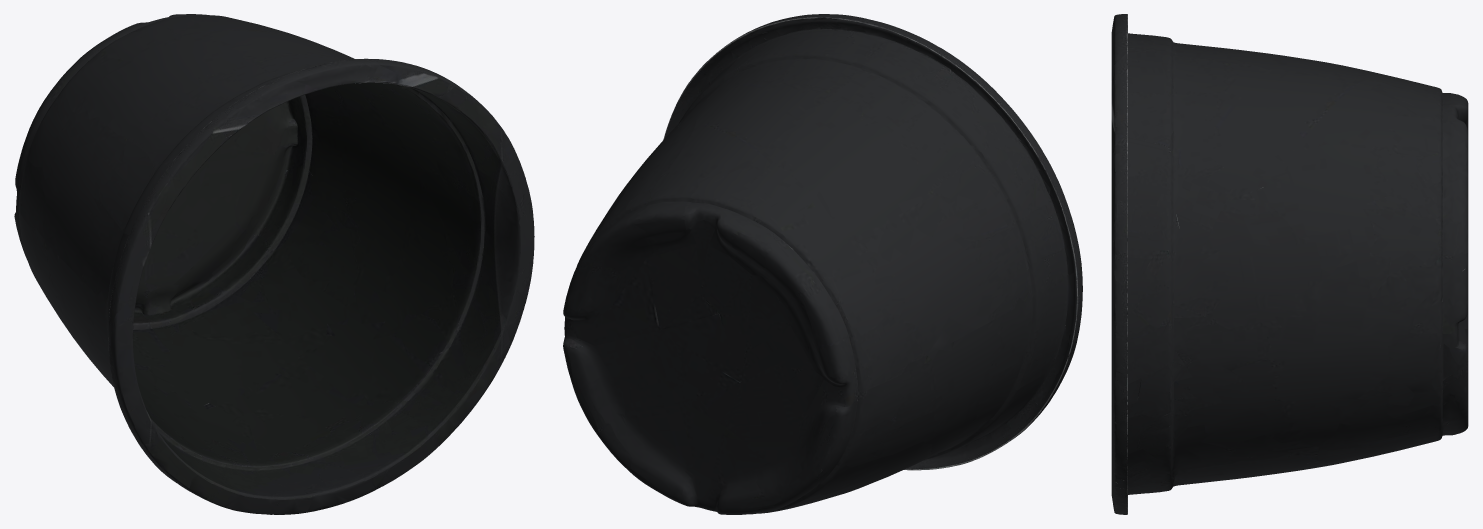
The model's file is sister-17.glb.
3 renders of one model, left to right at view 1: azimuth 30°, elevation 25°; view 2: azimuth 150°, elevation 25°; view 3: azimuth 270°, elevation 25°, orthographic. The views are drawn at different scales.
Visible parts, largest first — view 1: black plastic plant pot; view 2: black plastic plant pot; view 3: black plastic plant pot.
Boxes of the visible parts, x1=… form: black plastic plant pot: x1=14, y1=14, x2=534, y2=514; black plastic plant pot: x1=563, y1=14, x2=1082, y2=514; black plastic plant pot: x1=1111, y1=14, x2=1468, y2=514.
Bounding box in the file's own units: 0.2297 × 0.2297 × 0.1642.
1 material, 1 textured.
